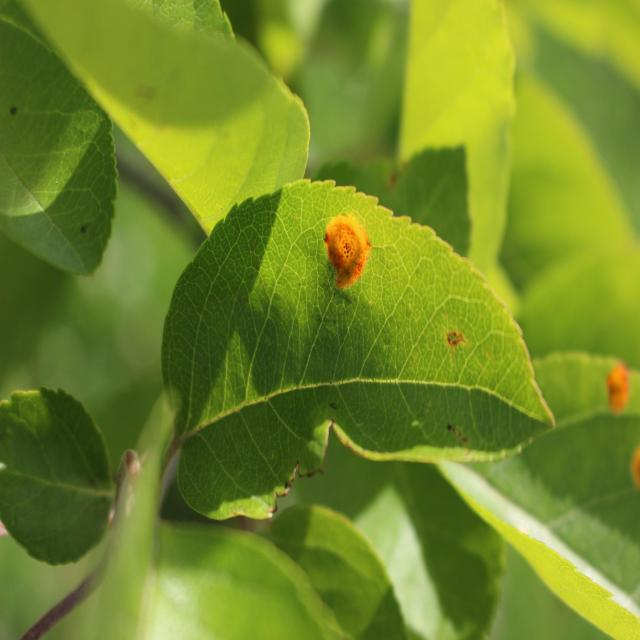Rust: (318, 208, 372, 298), (596, 351, 635, 427)
